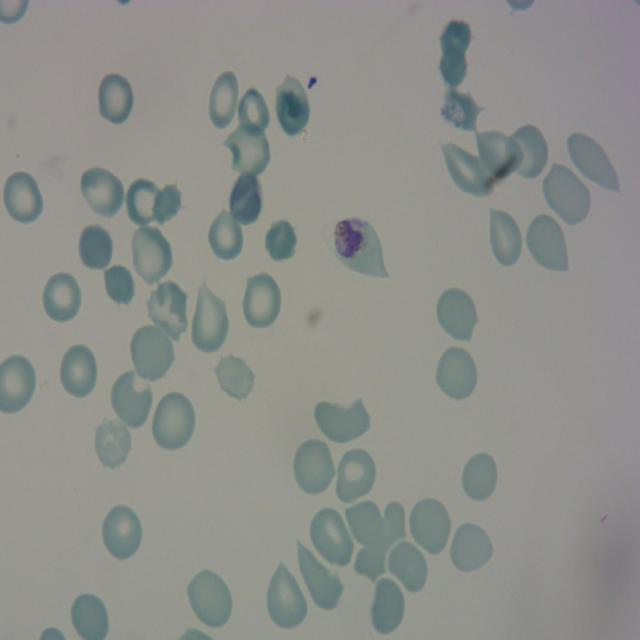leukocyte: (564, 130, 622, 199), (294, 541, 343, 614), (541, 161, 592, 228), (307, 505, 356, 573), (264, 561, 310, 633), (185, 568, 234, 632), (523, 210, 571, 275), (443, 138, 495, 198), (128, 222, 174, 288), (315, 392, 371, 446), (150, 390, 197, 454), (189, 283, 230, 356), (144, 279, 190, 342), (407, 494, 453, 556), (109, 367, 154, 430), (99, 501, 144, 563), (474, 126, 521, 185), (0, 168, 45, 228), (434, 286, 480, 344), (240, 270, 283, 332), (434, 344, 479, 403), (333, 445, 377, 505), (447, 521, 495, 575), (506, 123, 549, 183), (385, 539, 430, 596), (274, 74, 312, 140), (81, 165, 125, 222), (225, 123, 269, 180), (296, 430, 336, 492), (58, 341, 100, 400), (485, 207, 524, 270), (341, 496, 388, 548), (41, 269, 83, 326), (92, 413, 133, 471), (206, 69, 243, 133), (95, 70, 135, 128), (213, 350, 256, 403), (368, 576, 406, 635), (459, 450, 499, 505), (130, 325, 173, 375), (206, 208, 244, 263), (228, 171, 264, 229), (371, 496, 407, 554), (76, 221, 115, 274), (350, 538, 392, 584), (125, 178, 162, 228), (442, 87, 482, 132), (234, 86, 268, 138), (262, 217, 298, 265), (150, 182, 184, 227), (104, 258, 135, 307), (438, 41, 469, 89), (439, 18, 474, 60)
schizont: (333, 219, 387, 279)
